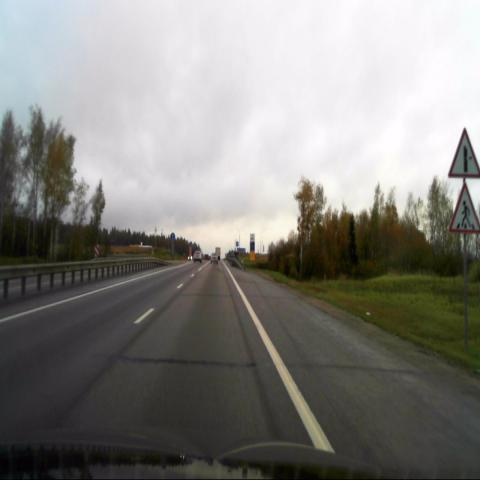1_22: (448, 182, 480, 234)
